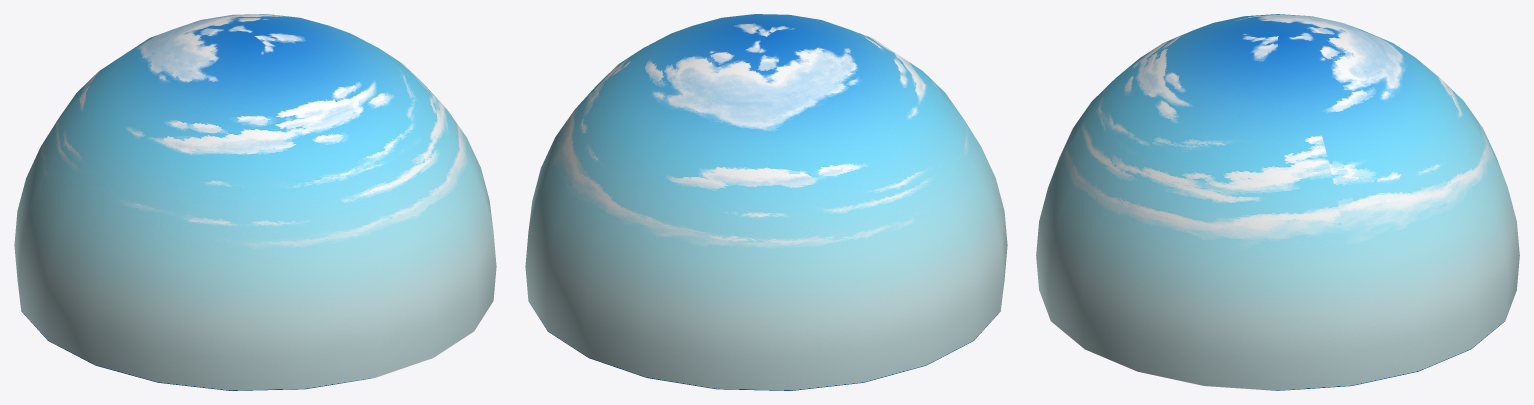
Rendered from Sky.fbx.
3 views of the same model, side by side, from view 1: azimuth 30°, elevation 25°; view 2: azimuth 150°, elevation 25°; view 3: azimuth 270°, elevation 25° (orthographic).
Visible parts, largest first — view 1: pSphere1; view 2: pSphere1; view 3: pSphere1.
Part boxes in pixels (box(x1,y1,x2,y2)): pSphere1: box(14, 14, 496, 390); pSphere1: box(525, 14, 1007, 390); pSphere1: box(1036, 14, 1519, 390).
Bounding box in the file's own units: 34.92 × 20.19 × 34.92.
